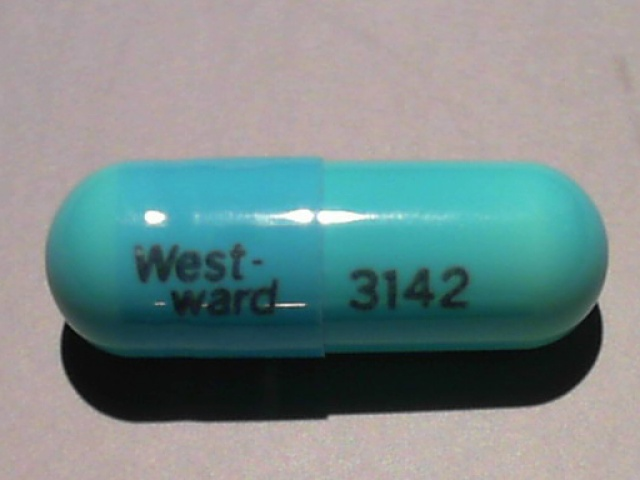capsule: (37, 149, 613, 362)
